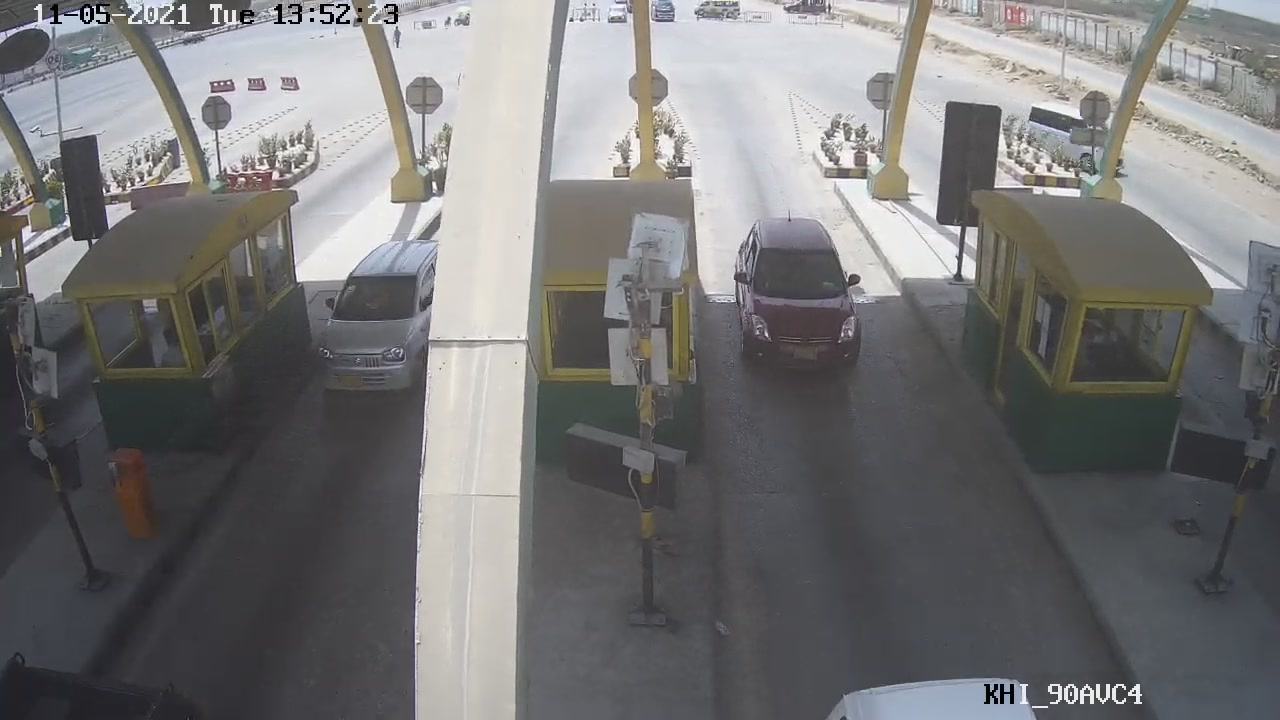F1: (721, 199, 877, 379)
